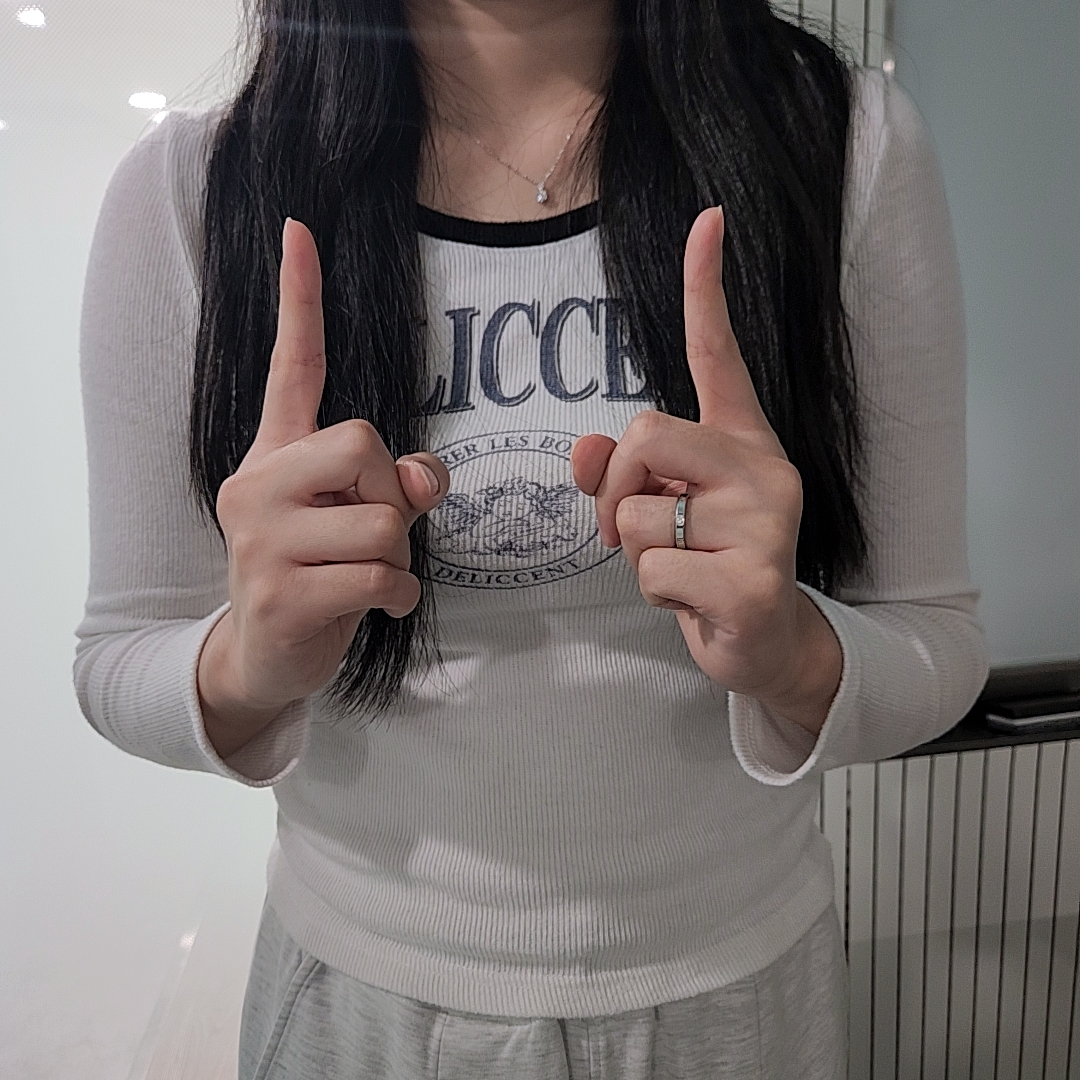meet: (210, 214, 809, 699)
